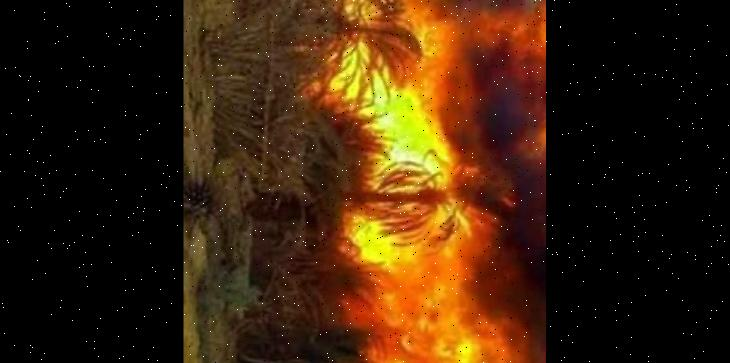fire: (322, 0, 546, 363)
